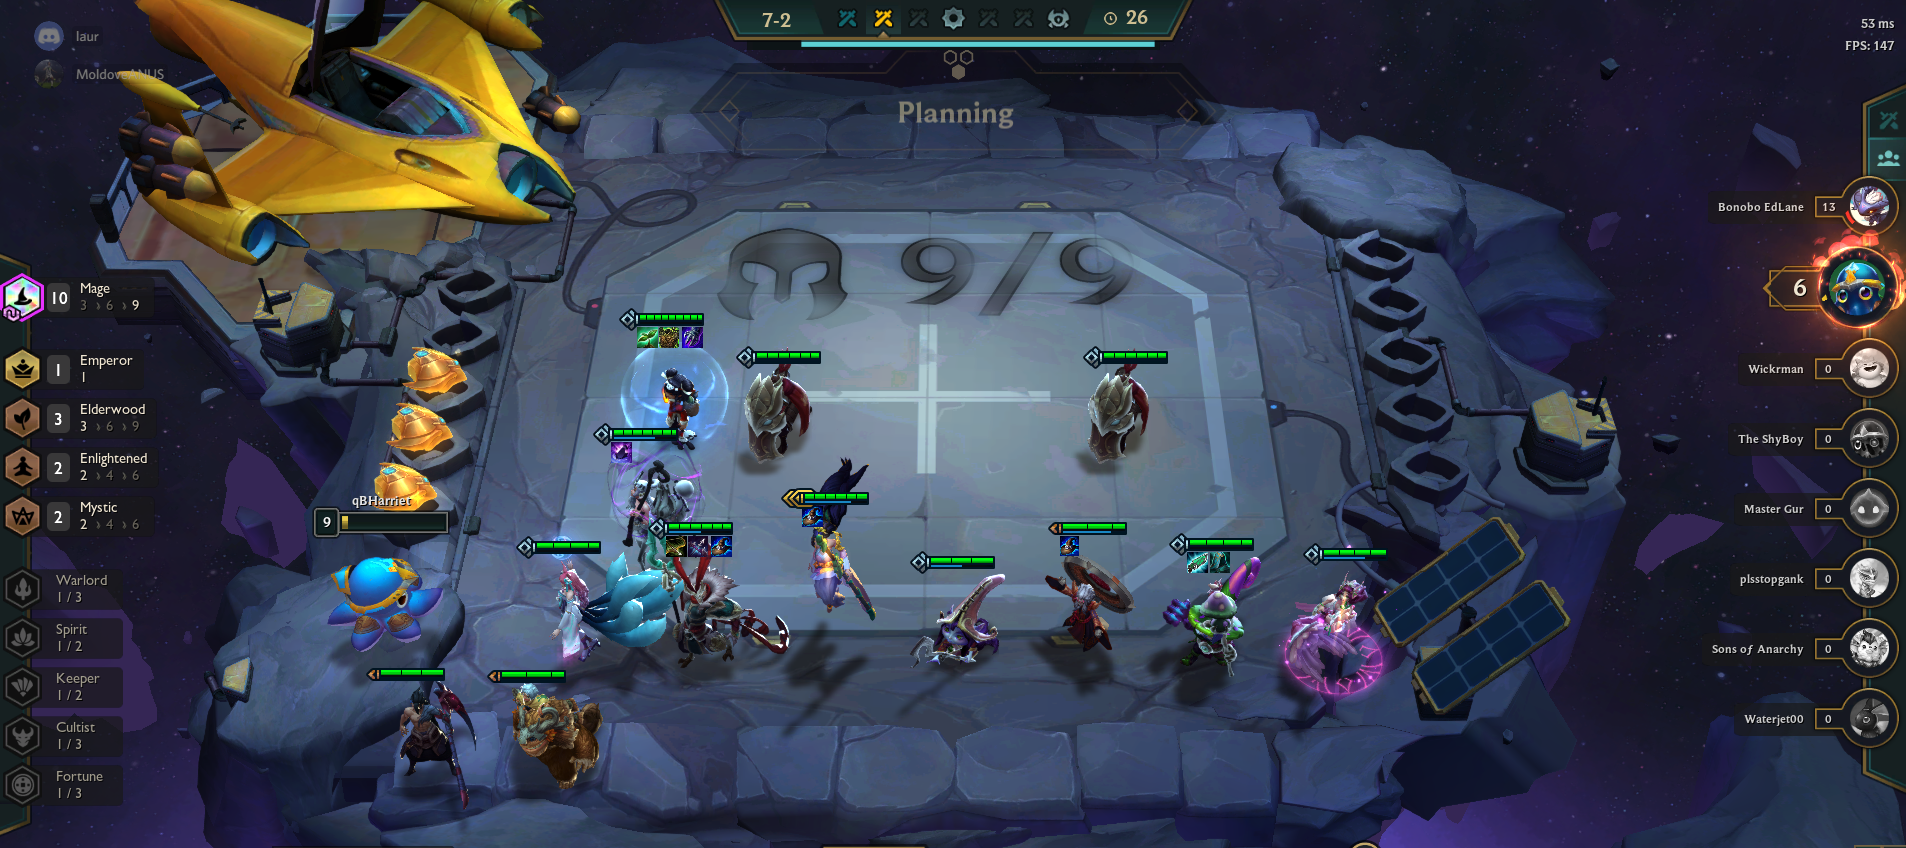1star_kayn: (353, 662, 483, 821)
1star_nunu: (484, 665, 613, 808)
2star_ahri: (507, 530, 693, 692)
2star_annie: (618, 303, 716, 462)
2star_azir: (641, 511, 801, 688)
2star_azirsoldier: (1065, 332, 1179, 492), (723, 330, 831, 484)
2star_janna: (774, 456, 898, 718)
2star_lillia: (587, 415, 709, 576)
2star_lulu: (898, 536, 1027, 692)
2star_nami: (1271, 528, 1409, 716)
2star_nami_chosen: (1270, 526, 1406, 714)
2star_veigar: (1154, 524, 1271, 711)
2star_zilean: (1033, 514, 1147, 685)
item_bow: (662, 532, 690, 561)
item_elderwood: (633, 322, 661, 351)
item_gunblade: (1183, 545, 1211, 575)
item_lastwhisper: (684, 531, 712, 560)
item_mage: (799, 501, 827, 530), (707, 532, 735, 561), (1054, 531, 1082, 560)
item_quicksilver: (1203, 547, 1233, 576)
item_trapclaw: (677, 323, 705, 352)
item_warmogs: (655, 323, 683, 352)
item_zzrot: (607, 439, 635, 467)
trait_cultist1: (1, 705, 168, 759)
trait_elderwood3: (1, 391, 168, 445)
trait_emperor1: (1, 343, 168, 396)
trait_enlightened2: (1, 439, 168, 492)
trait_fortune1: (1, 753, 168, 807)
trait_keeper1: (1, 656, 168, 710)
trait_mage10: (1, 267, 168, 327)
trait_mage_chosen: (1, 267, 46, 326)
trait_mystic2: (1, 486, 168, 539)
trait_spirit1: (1, 610, 168, 665)
trait_warlord1: (1, 562, 168, 616)
